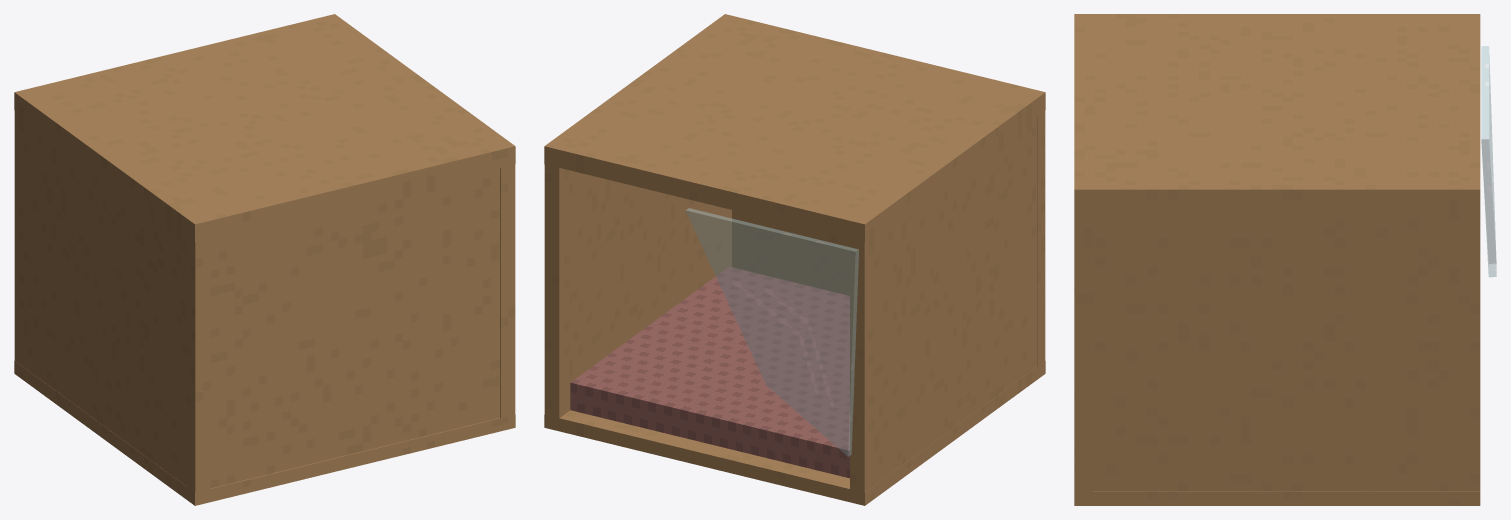
File: f_cardboard_fort.glb
The picture shows the model from 3 angles, left to right: view 1: azimuth 30°, elevation 25°; view 2: azimuth 150°, elevation 25°; view 3: azimuth 270°, elevation 25°; orthographic projection. The views are drawn at different scales.
Visible parts, largest first — view 1: block_carton-back, block_carton-top, block_carton-side (×2), block_tipped-carton-floor; view 2: block_carton-side (×2), block_carton-top, block_blanket-lining, block_half-drawn-plastic-sheet, block_tipped-carton-floor, block_carton-back; view 3: block_carton-side, block_carton-top, block_tipped-carton-floor, block_carton-back, block_half-drawn-plastic-sheet.
Part boxes in pixels (x1=…): block_carton-back: x1=186, y1=168, x2=499, y2=492; block_carton-top: x1=14, y1=14, x2=515, y2=241; block_carton-side (×2): x1=14, y1=111, x2=515, y2=493; block_tipped-carton-floor: x1=14, y1=360, x2=515, y2=505; block_carton-side (×2): x1=544, y1=111, x2=1045, y2=493; block_carton-top: x1=544, y1=14, x2=1045, y2=241; block_blanket-lining: x1=570, y1=266, x2=849, y2=478; block_half-drawn-plastic-sheet: x1=685, y1=208, x2=858, y2=456; block_tipped-carton-floor: x1=544, y1=360, x2=1045, y2=505; block_carton-back: x1=732, y1=102, x2=1044, y2=366; block_carton-side: x1=1074, y1=210, x2=1480, y2=490; block_carton-top: x1=1074, y1=14, x2=1480, y2=209; block_tipped-carton-floor: x1=1074, y1=491, x2=1480, y2=505; block_carton-back: x1=1075, y1=200, x2=1092, y2=491; block_half-drawn-plastic-sheet: x1=1481, y1=46, x2=1496, y2=277.
Bounding box in the file's own units: 0.84 × 0.705 × 0.853.
2 materials, 2 textured.
